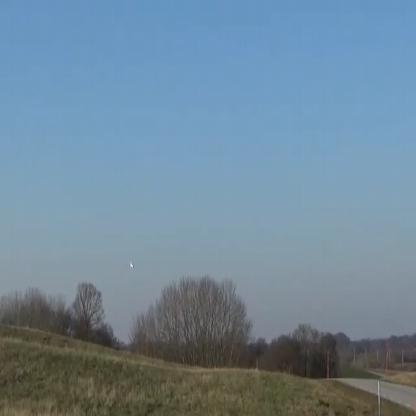CIV_Plane: (126, 256, 140, 274)
